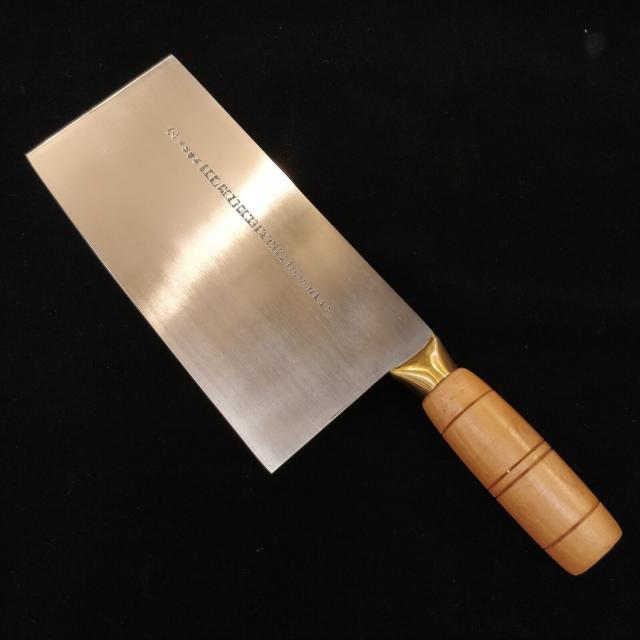cleaver: (25, 54, 620, 569)
